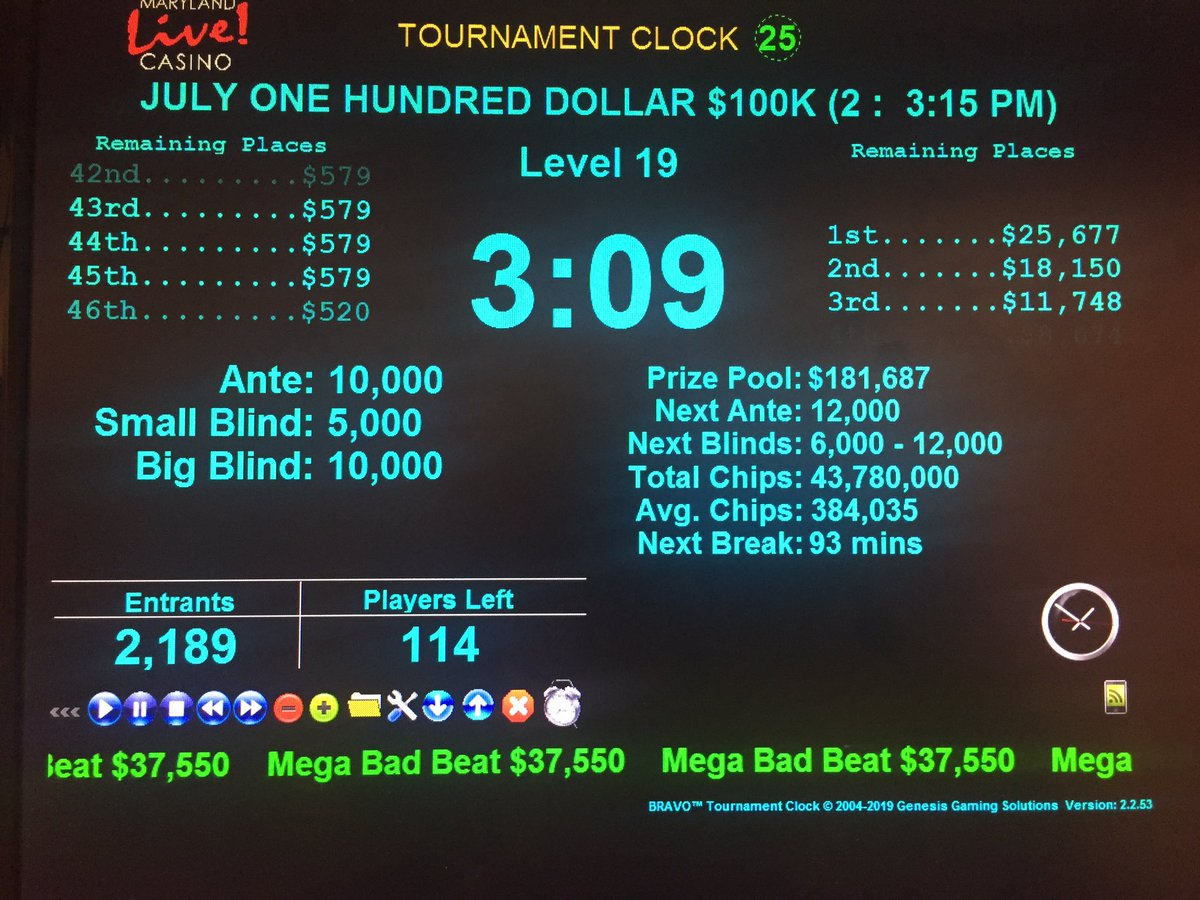PlayersLeft: (294, 578, 589, 675)
Remaining: (59, 132, 390, 341), (814, 134, 1132, 338)
TournamentClock: (23, 74, 1147, 679)
